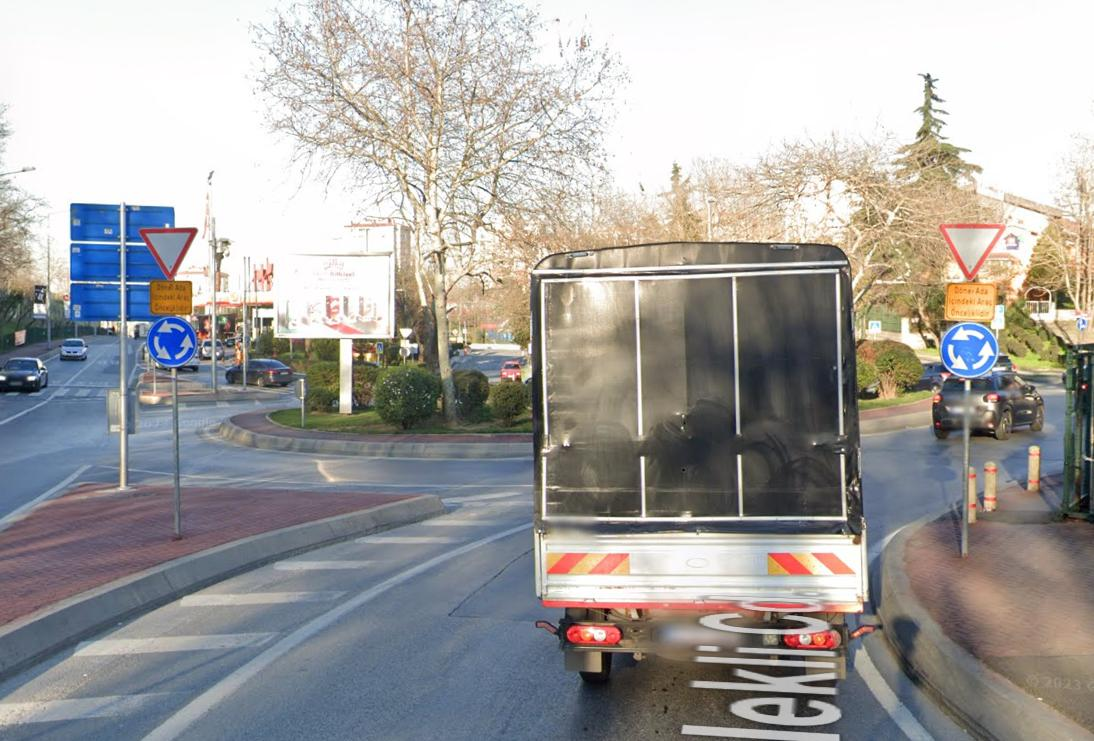crossroads: (145, 316, 199, 369), (941, 325, 996, 372)
